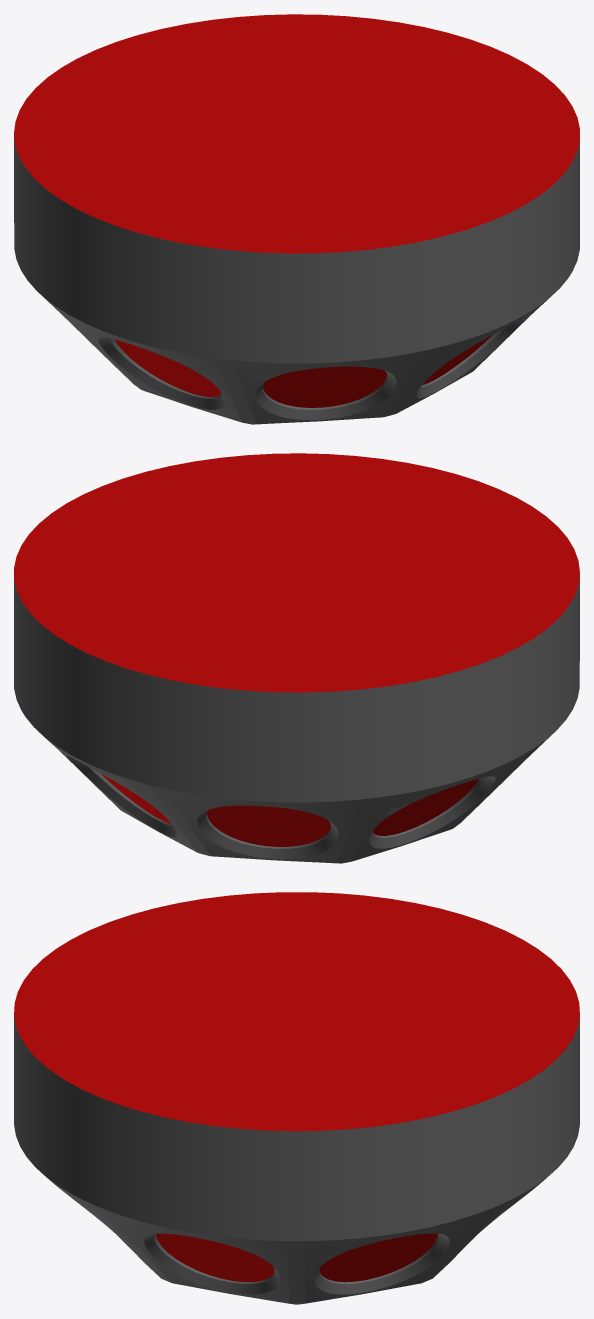
Rendered from dvl.000.dae.
3 renders of one model, top to bottom at view 1: azimuth 30°, elevation 25°; view 2: azimuth 150°, elevation 25°; view 3: azimuth 270°, elevation 25°, orthographic.
Parts seen in each view (by area): view 1: dvl.000; view 2: dvl.000; view 3: dvl.000.
Part boxes in pixels (bbox=[...]): dvl.000: bbox=[14, 14, 579, 424]; dvl.000: bbox=[14, 453, 579, 863]; dvl.000: bbox=[14, 892, 579, 1304].
Size of the model in its own units: 0.1431 by 0.1431 by 0.0613.
